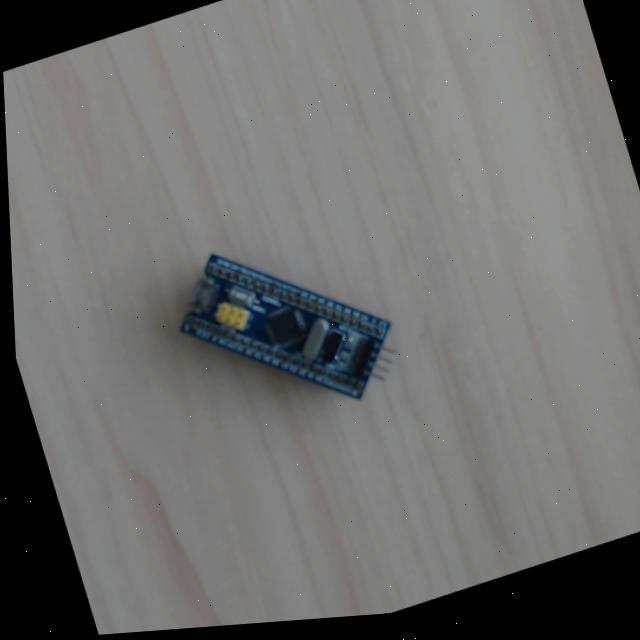STM32-Bluepill: (178, 251, 396, 401)
